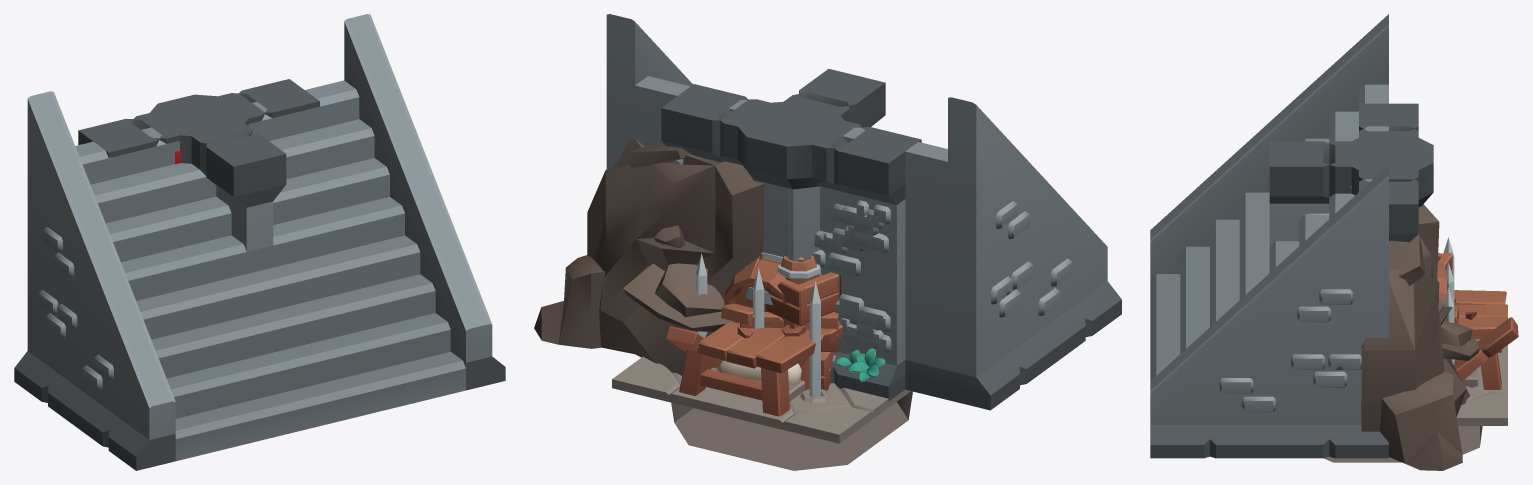
The picture shows the model from 3 angles, left to right: view 1: azimuth 30°, elevation 25°; view 2: azimuth 150°, elevation 25°; view 3: azimuth 270°, elevation 25°; orthographic projection. The views are drawn at different scales.
Parts seen in each view (by area): view 1: stairs_wide, wall_corner, wall_arched, wall_pillar, wall; view 2: stairs_wide, rubble_half, floor_tile_big_grate, wall_arched, wall_corner, wall_pillar, table_long_broken, wall, Cube.14376, crates_stacked, wall_half, pillar_decorated (+7 smaller); view 3: stairs_wide, rubble_half, wall_corner, wall_arched, table_long_broken, Cube.14376, floor_tile_big_grate, wall_pillar, wall, wall_endcap, spikes.
Part boxes in pixels (x1,y1,x2,y2): stairs_wide: (14,14,505,470); wall_corner: (105,120,286,251); wall_arched: (78,79,319,157); wall_pillar: (104,94,248,163); wall: (94,93,264,152); stairs_wide: (606,14,1121,410); rubble_half: (534,138,764,375); floor_tile_big_grate: (612,379,912,470); wall_arched: (661,84,921,401); wall_corner: (780,69,917,382); wall_pillar: (713,101,899,397); table_long_broken: (666,303,842,416); wall: (712,109,921,398); Cube.14376: (612,357,910,443); crates_stacked: (740,256,841,390); wall_half: (661,108,787,163); pillar_decorated: (741,104,836,258); stairs_wide: (1150,14,1388,458); rubble_half: (1361,204,1479,470); wall_corner: (1269,126,1409,246); wall_arched: (1359,103,1418,241); table_long_broken: (1454,290,1518,389); Cube.14376: (1456,339,1507,425); floor_tile_big_grate: (1324,418,1507,462); wall_pillar: (1344,138,1433,207); wall: (1359,166,1418,242); wall_endcap: (1359,155,1418,181); spikes: (1443,237,1454,365).
Size of the model in its own units: 7.5 by 6.1 by 6.18.
Materials: 1 (1 with a texture image).
